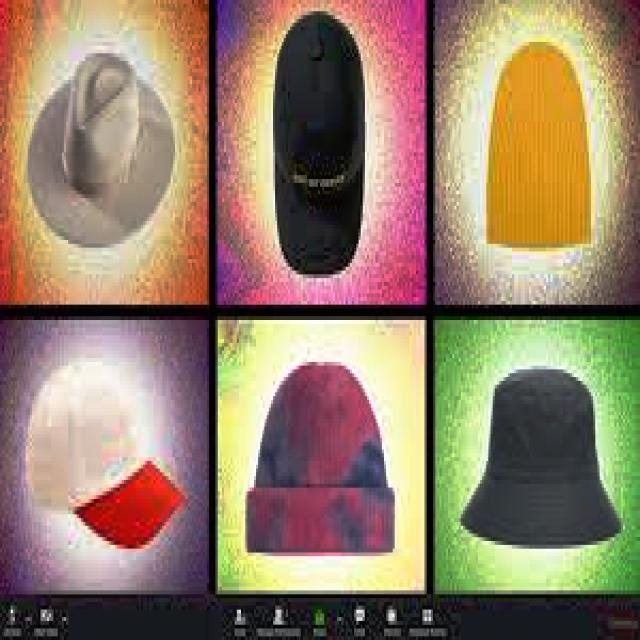TOPI: (19, 351, 190, 548), (19, 42, 177, 248), (454, 358, 623, 545), (239, 351, 397, 548), (266, 4, 362, 274), (480, 30, 591, 252)
